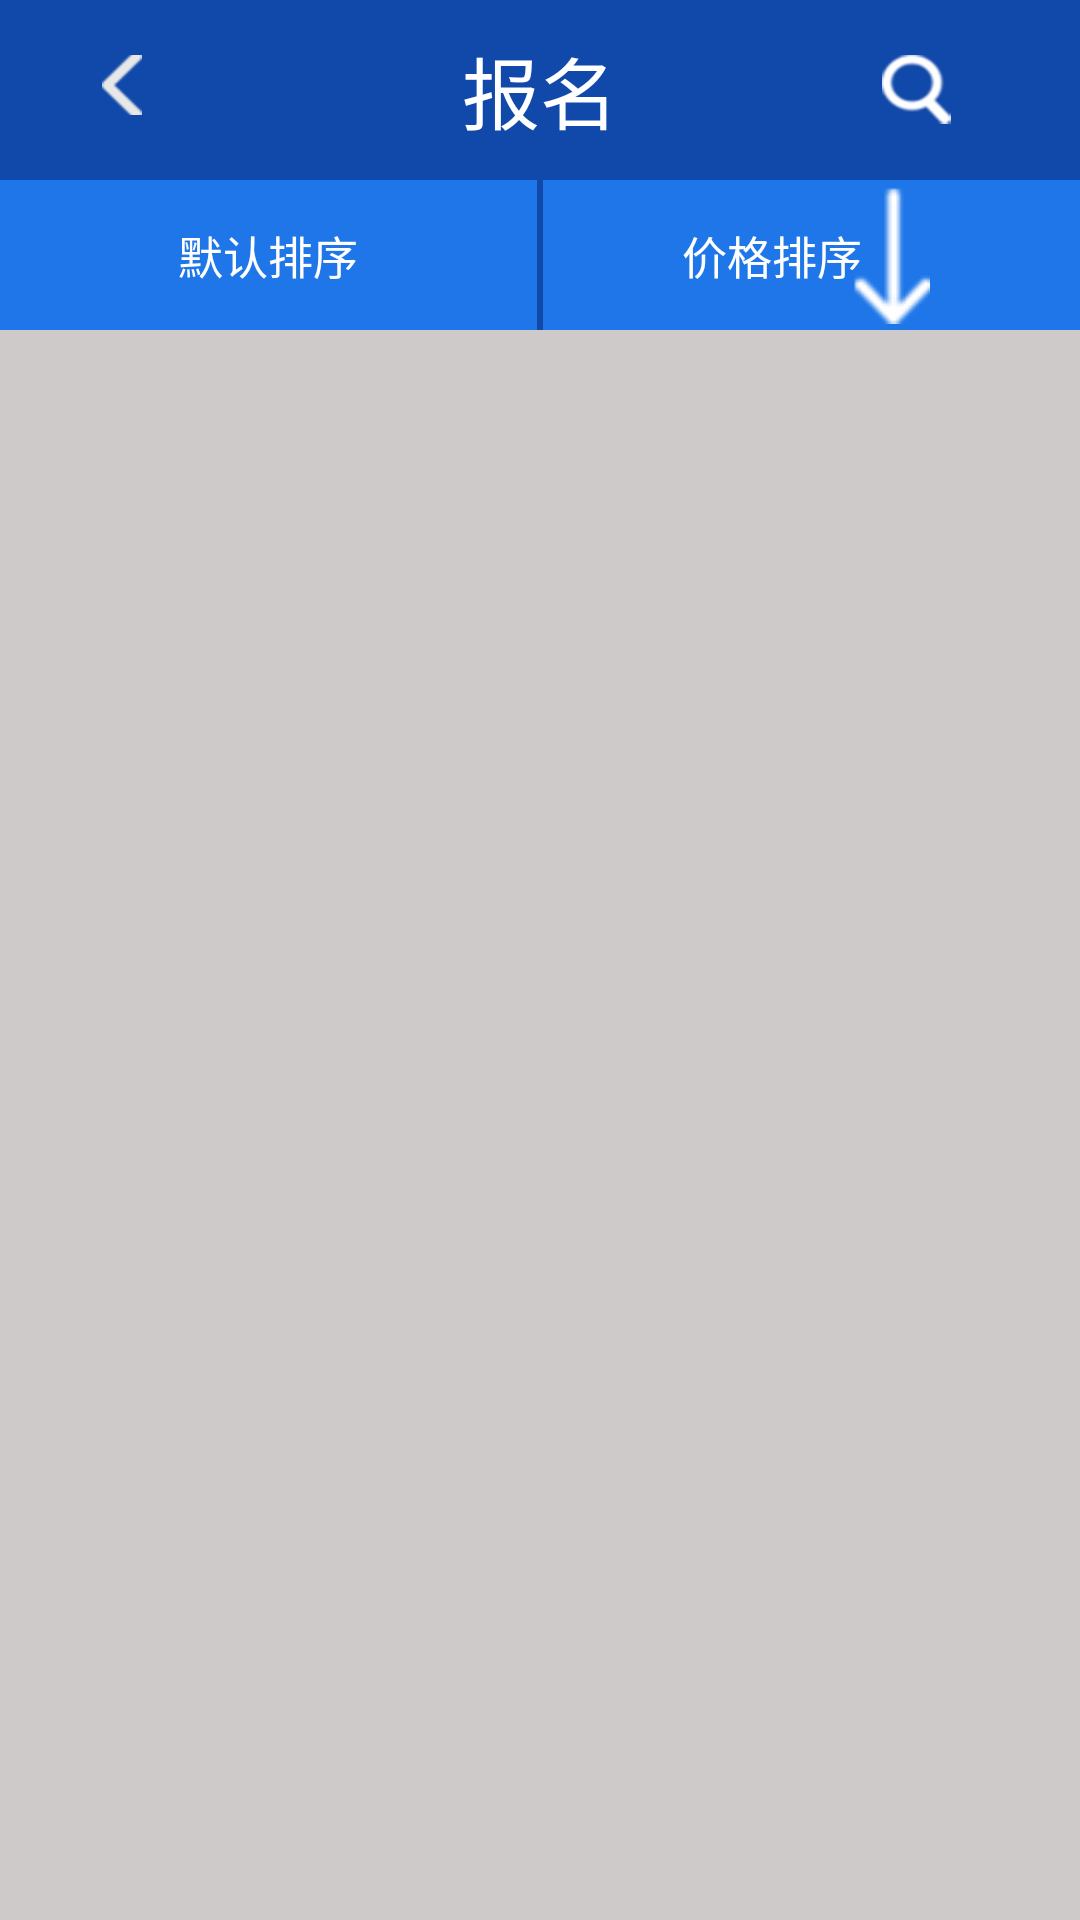

Where to tap for icons on this 1080px x 1920px app screen, as (x,y):
serach: (916,89)
